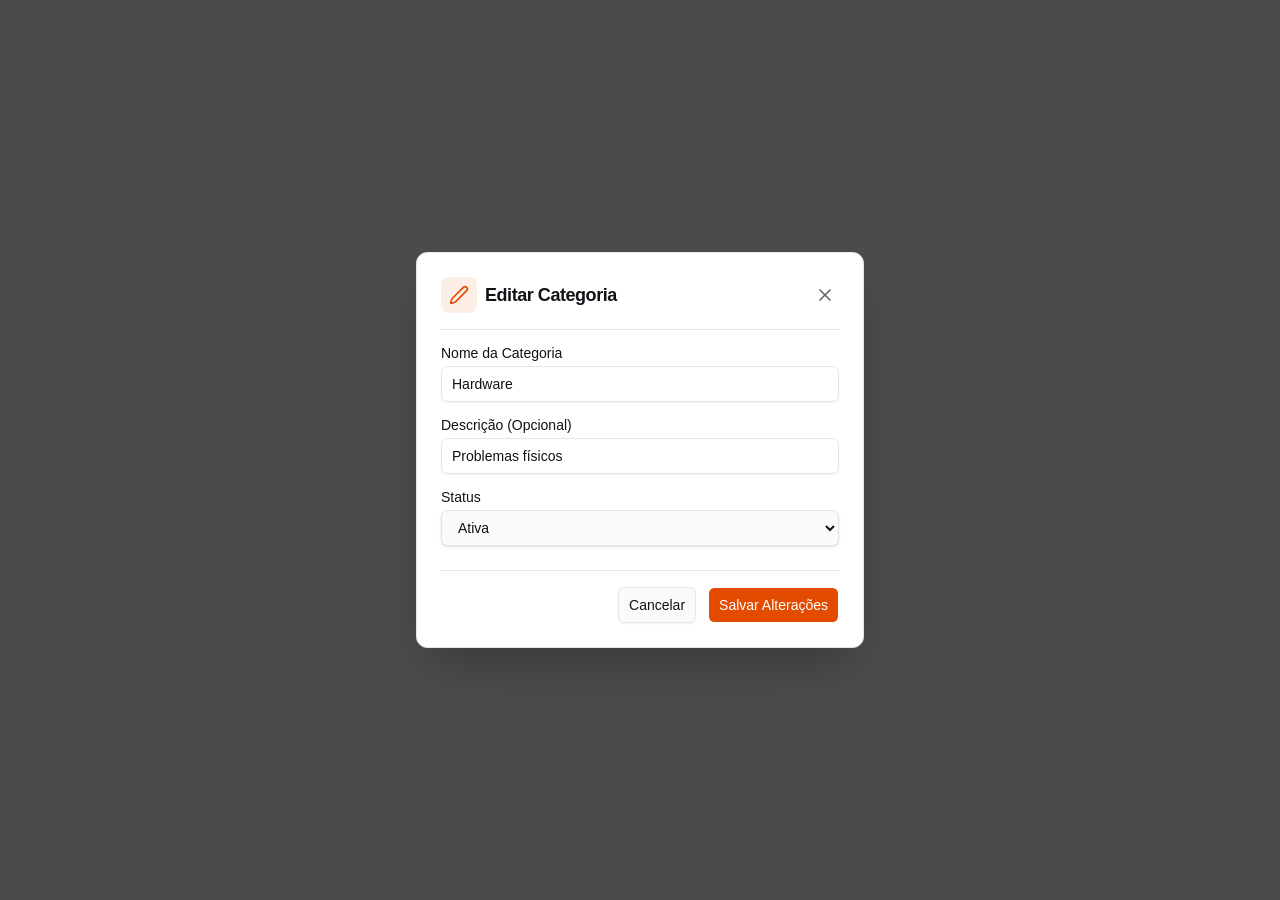
Scenario: EditCategoryModal › deve exibir mensagem de erro quando a API rejeitar a atualização
The width and height of the screenshot is (1280, 900).
Click the button "Salvar Alterações".
click(774, 605)  # box [708,587,839,623]
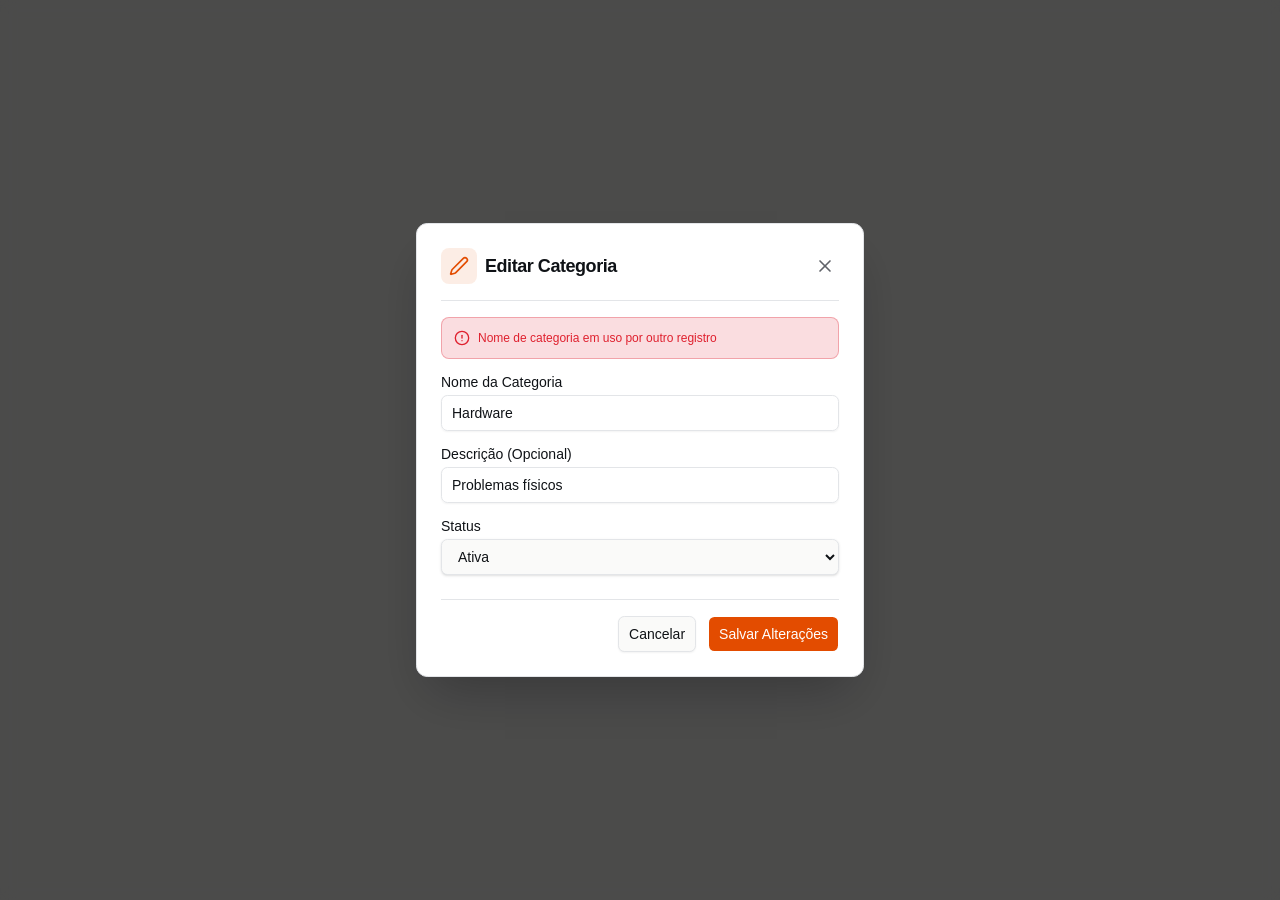
Check: the text "Nome de categoria em uso por outro registro" is shown, box [478,330,717,346]
